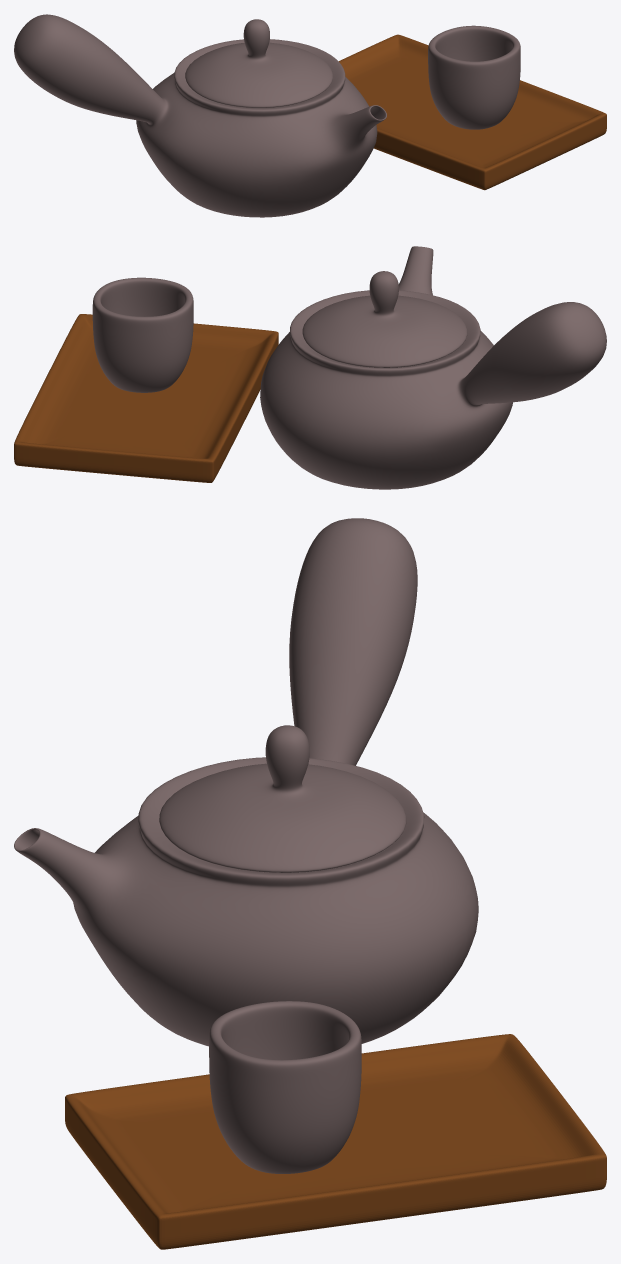
Rendered from teapot.glb.
3 views of the same model, one above another, from view 1: azimuth 30°, elevation 25°; view 2: azimuth 150°, elevation 25°; view 3: azimuth 270°, elevation 25° (orthographic). The views are drawn at different scales.
Parts seen in each view (by area): view 1: teapot, planck, cup2; view 2: teapot, planck, cup2; view 3: teapot, planck, cup2.
Part boxes in pixels (x1,y1,x2,y2): teapot: [14, 14, 386, 217]; planck: [339, 34, 606, 190]; cup2: [428, 25, 520, 129]; teapot: [260, 246, 606, 489]; planck: [14, 314, 278, 482]; cup2: [92, 277, 193, 392]; teapot: [14, 518, 478, 1046]; planck: [65, 1034, 606, 1249]; cup2: [209, 1001, 361, 1173].
Bounding box in the file's own units: 7.83 × 2.79 × 4.55.
